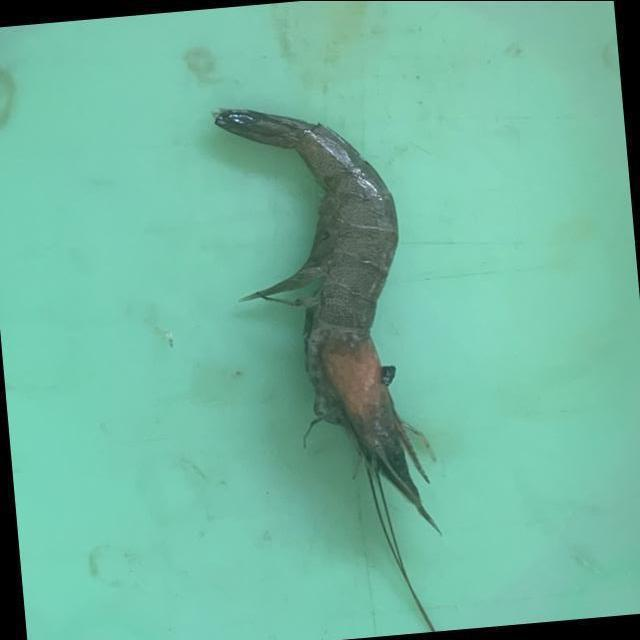shrimp: (215, 110, 438, 528)
